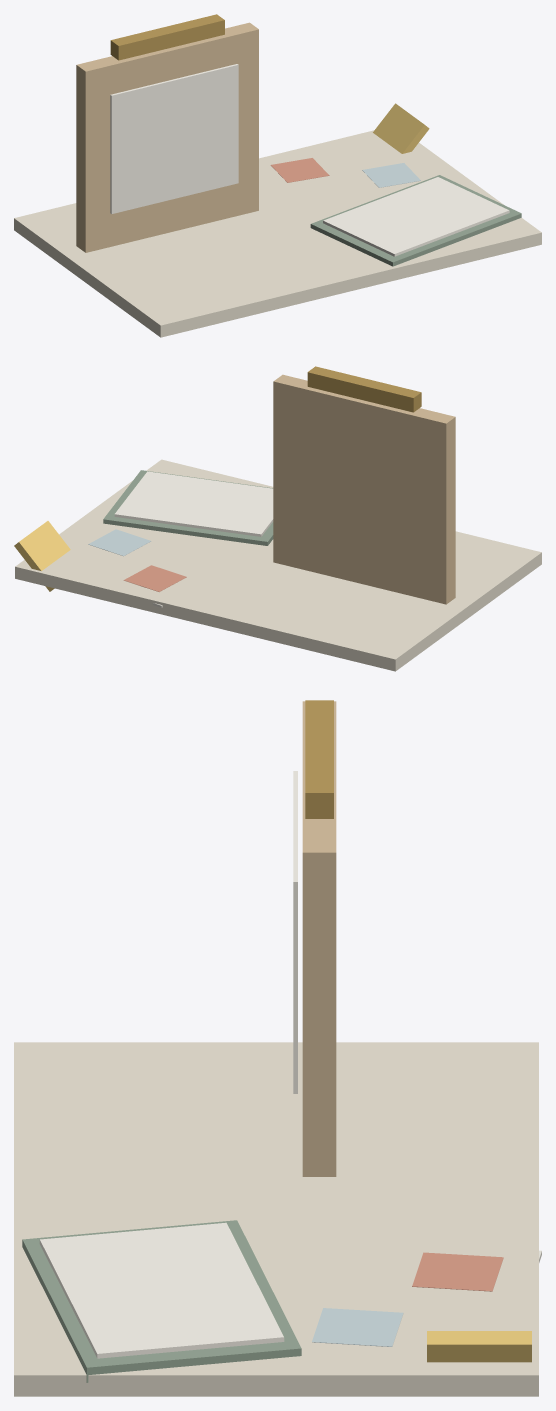
Rendered from merch.gltf.
3 renders of one model, top to bottom at view 1: azimuth 30°, elevation 25°; view 2: azimuth 150°, elevation 25°; view 3: azimuth 270°, elevation 25°, orthographic. The views are drawn at different scales.
Visible parts, largest first — view 1: TableBase, ToteBody, hotspot_tote_art, hotspot_notebook_cover, Notebook, ToteHandle, Badge, hotspot_sticker_a, hotspot_sticker_b; view 2: TableBase, ToteBody, hotspot_notebook_cover, ToteHandle, Notebook, Badge, hotspot_sticker_b, hotspot_sticker_a; view 3: TableBase, hotspot_notebook_cover, ToteBody, Notebook, ToteHandle, Badge, hotspot_sticker_a, hotspot_sticker_b, hotspot_tote_art.
Part boxes in pixels (<box>): TableBase: <box>14,130,541,337</box>; ToteBody: <box>76,22,258,252</box>; hotspot_tote_art: <box>110,64,238,214</box>; hotspot_notebook_cover: <box>323,177,509,256</box>; Notebook: <box>310,175,521,266</box>; ToteHandle: <box>110,14,224,60</box>; Badge: <box>373,103,429,153</box>; hotspot_sticker_a: <box>270,158,329,182</box>; hotspot_sticker_b: <box>362,163,420,187</box>; TableBase: <box>15,459,541,671</box>; ToteBody: <box>273,374,455,604</box>; hotspot_notebook_cover: <box>114,471,273,536</box>; ToteHandle: <box>307,366,421,412</box>; Notebook: <box>103,470,273,545</box>; Badge: <box>14,521,70,591</box>; hotspot_sticker_b: <box>88,529,151,556</box>; hotspot_sticker_a: <box>123,565,186,591</box>; TableBase: <box>14,1042,538,1396</box>; hotspot_notebook_cover: <box>39,1222,284,1358</box>; ToteBody: <box>302,701,336,1176</box>; Notebook: <box>22,1220,301,1382</box>; ToteHandle: <box>305,700,333,818</box>; Badge: <box>427,1331,531,1362</box>; hotspot_sticker_a: <box>412,1252,503,1291</box>; hotspot_sticker_b: <box>312,1308,403,1346</box>; hotspot_tote_art: <box>293,771,297,1093</box>.
Bounding box in the file's own units: 3.33 × 1.9 × 2.21.
